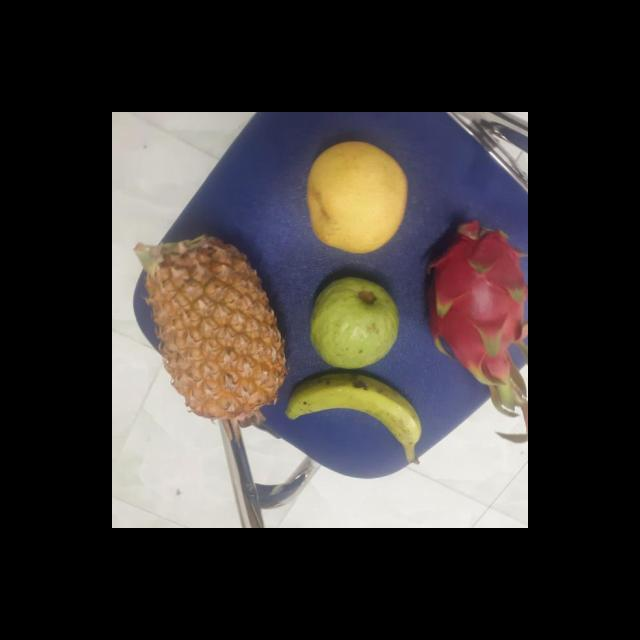banana: (283, 372, 419, 464)
guava: (305, 278, 399, 366)
pear: (298, 142, 412, 254)
pineapple: (146, 236, 283, 414)
pitaya: (418, 214, 528, 384)
